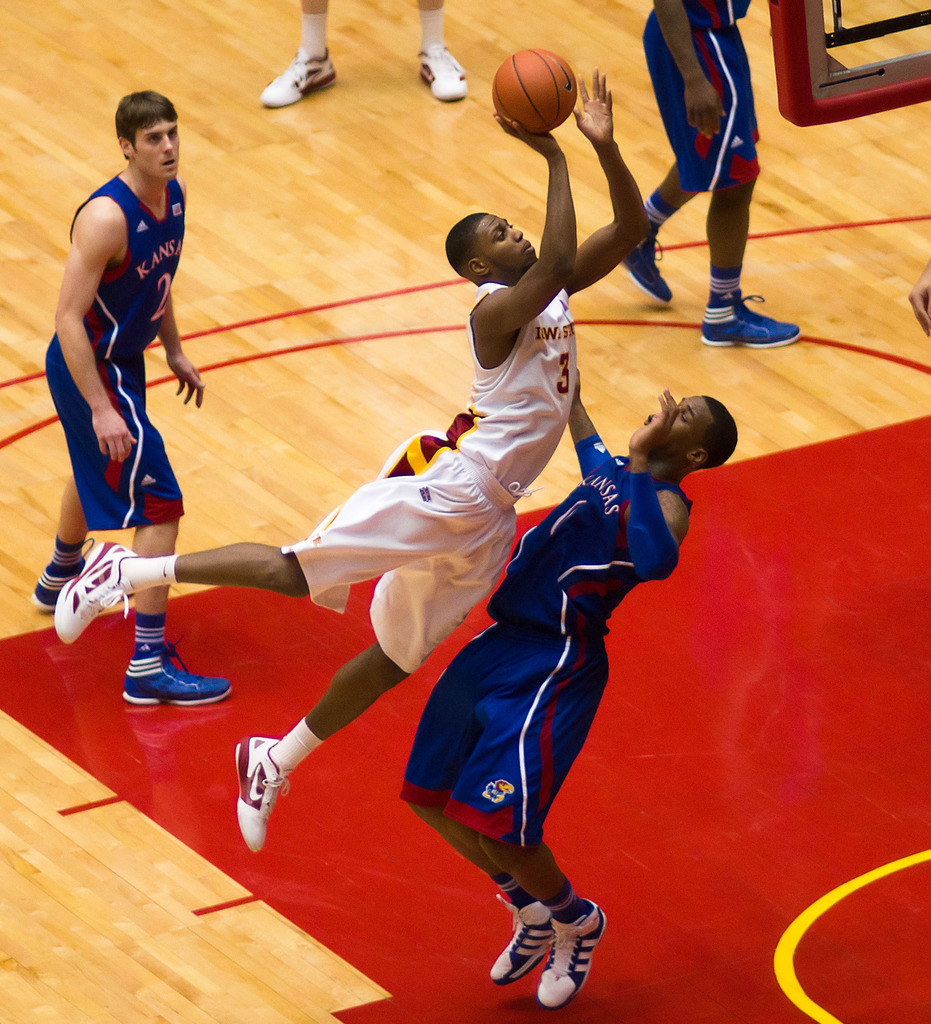Ball: (494, 50, 578, 132)
